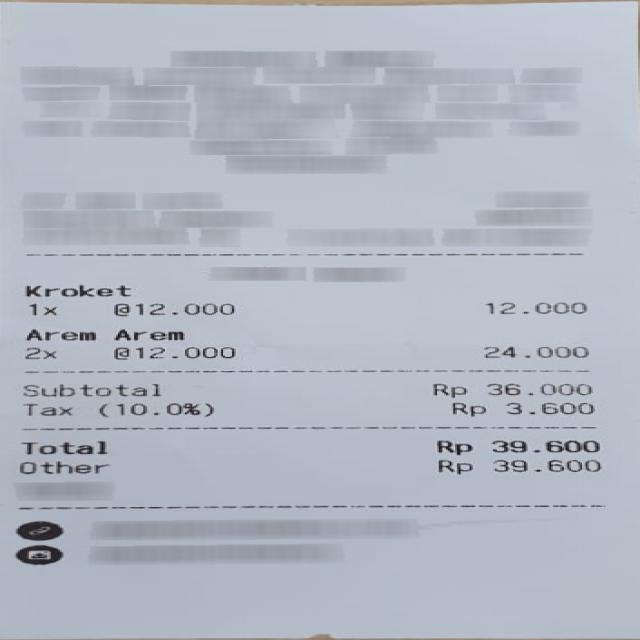text: (20, 383, 156, 395), (486, 438, 598, 452), (112, 302, 232, 315), (112, 346, 232, 359), (98, 402, 208, 416), (484, 382, 589, 395), (490, 458, 594, 471), (478, 345, 584, 357), (504, 400, 589, 414), (16, 460, 105, 473), (20, 440, 101, 454), (23, 284, 127, 294), (482, 302, 582, 312), (22, 329, 94, 340), (109, 328, 181, 339), (435, 438, 470, 454), (20, 403, 67, 414), (433, 459, 466, 474), (432, 382, 464, 396), (448, 402, 482, 415), (26, 302, 54, 315), (22, 347, 52, 358)
